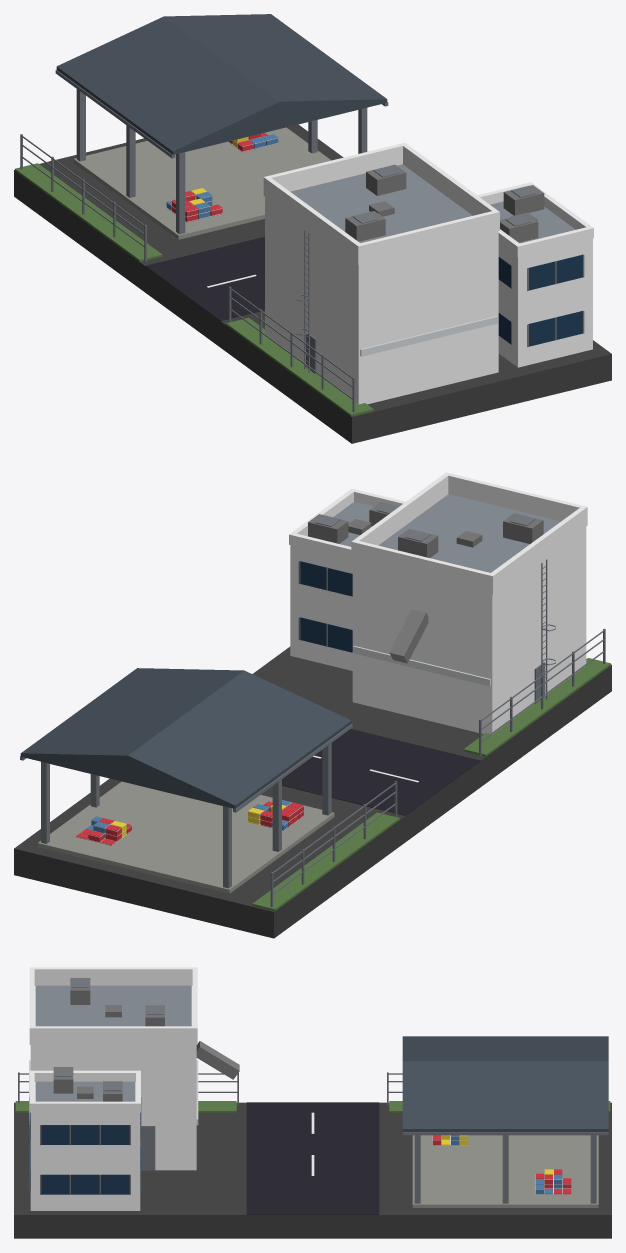
File: port_building_close.fbx
3 views of the same model, one above another, from view 1: azimuth 30°, elevation 25°; view 2: azimuth 150°, elevation 25°; view 3: azimuth 270°, elevation 25° (orthographic). The views are drawn at different scales.
Visible parts, largest first — view 1: a1001_0_port_building_close; view 2: a1001_0_port_building_close; view 3: a1001_0_port_building_close.
Part boxes in pixels (box(x1,y1,x2,y2)): a1001_0_port_building_close: box(14, 14, 611, 443); a1001_0_port_building_close: box(14, 472, 611, 938); a1001_0_port_building_close: box(14, 967, 611, 1238).
Bounding box in the file's own units: 16 × 11 × 36.
